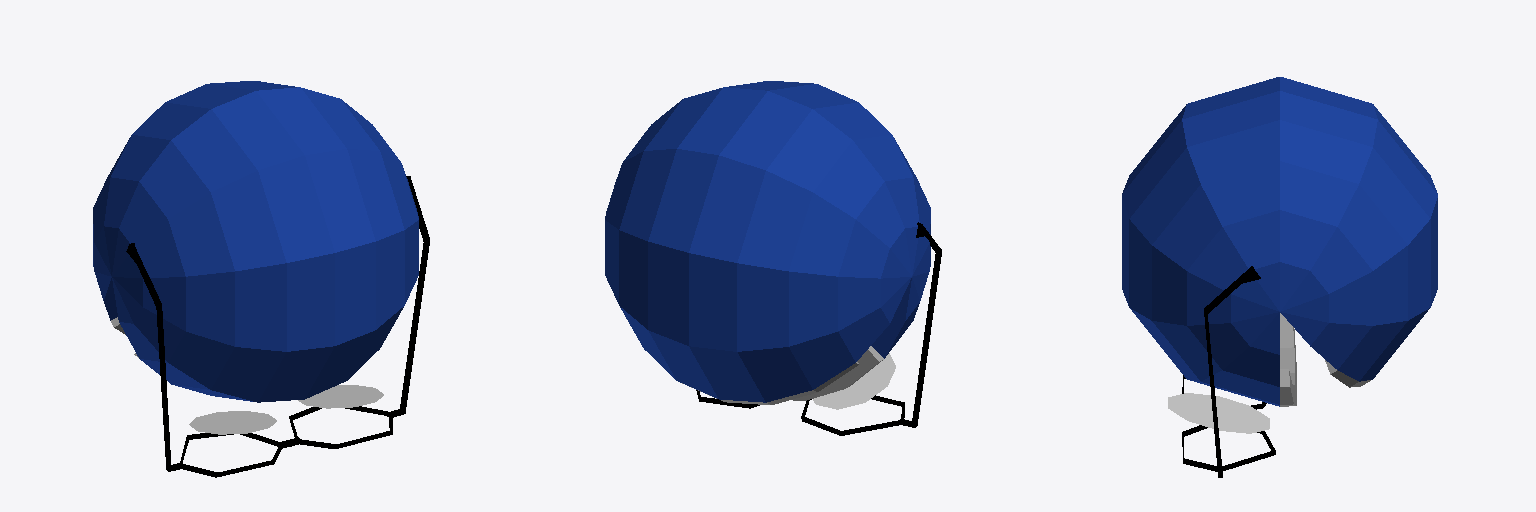
The model's file is monsterSimple.obj.
The picture shows the model from 3 angles: view 1: azimuth 30°, elevation 25°; view 2: azimuth 150°, elevation 25°; view 3: azimuth 270°, elevation 25°; orthographic projection.
Bounding box in the file's own units: 2 × 2.19 × 1.9.